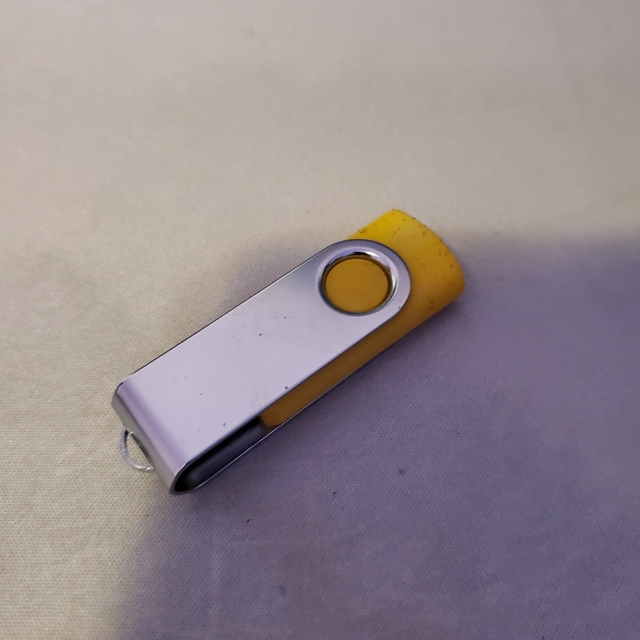usb_drive: (102, 189, 471, 517)
